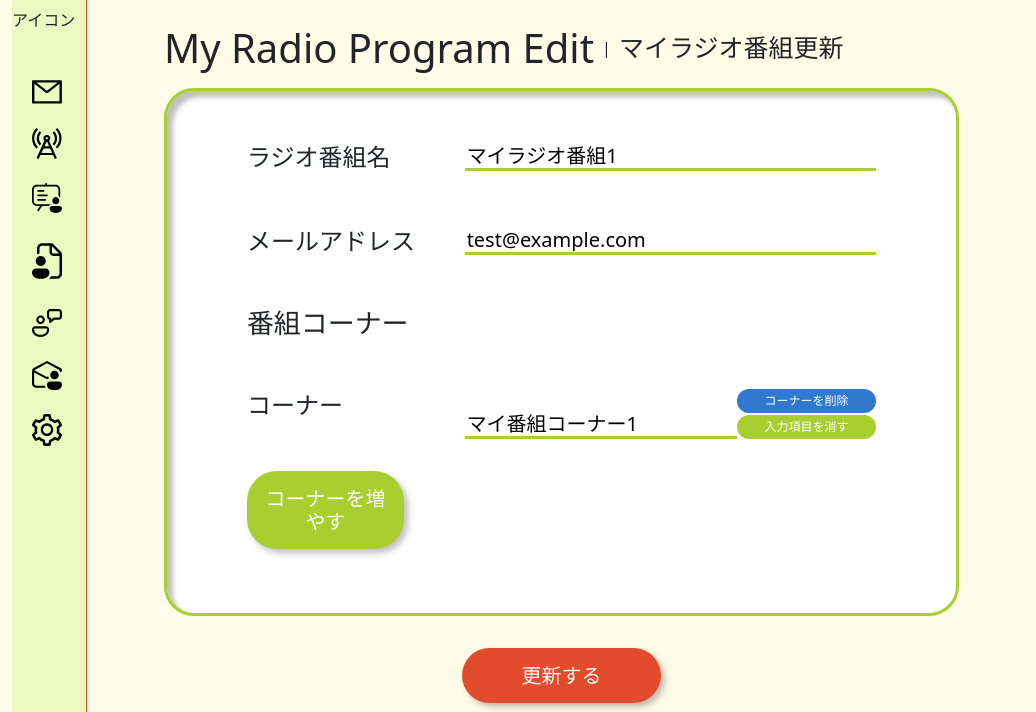
Test case: マイラジオ番組個別 › メールアドレスを入れないとバリデーションメッセージが表示される
The width and height of the screenshot is (1036, 712).
Type "更新" into the field with test id "my-radio-program-input-email".
click(670, 241); type("更新")  # box x1=465 y1=227 x2=876 y2=255
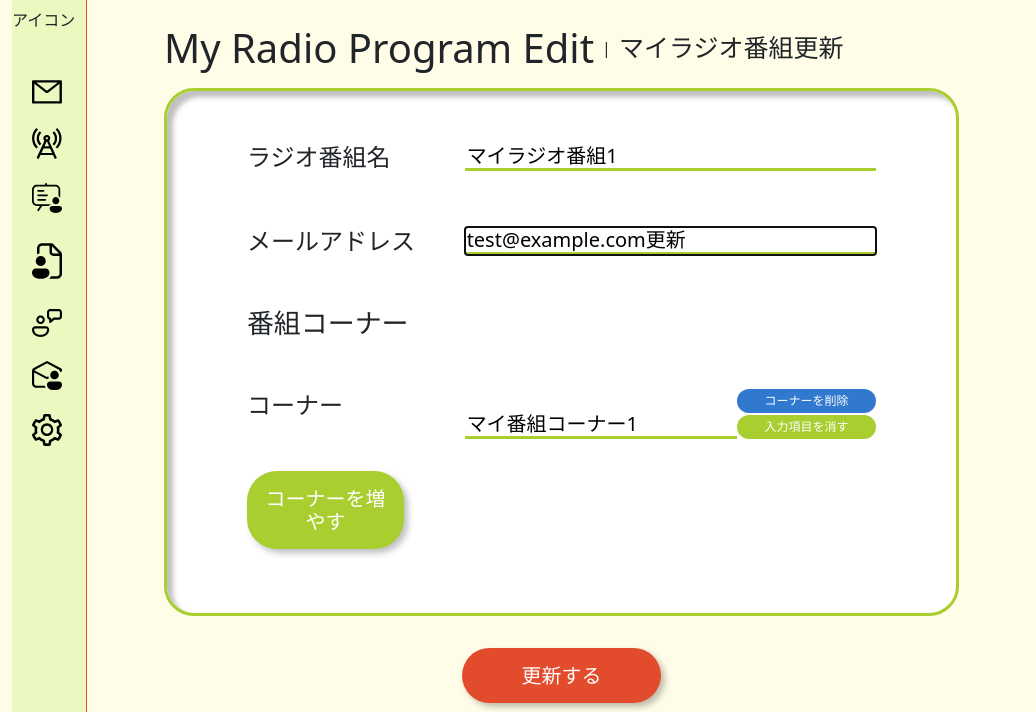
Clear the field with test id "my-radio-program-input-email" at (670, 241), box x1=465 y1=227 x2=876 y2=255
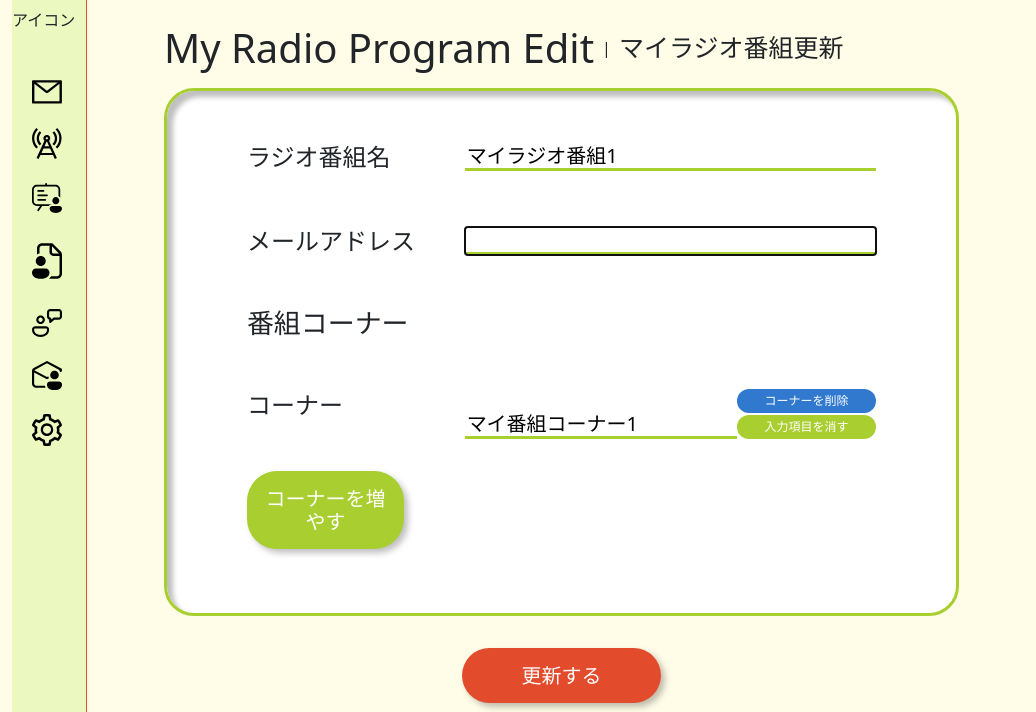
Click the button with test id "my-radio-program-button-edit".
click(562, 675)  # box x1=462 y1=648 x2=661 y2=703
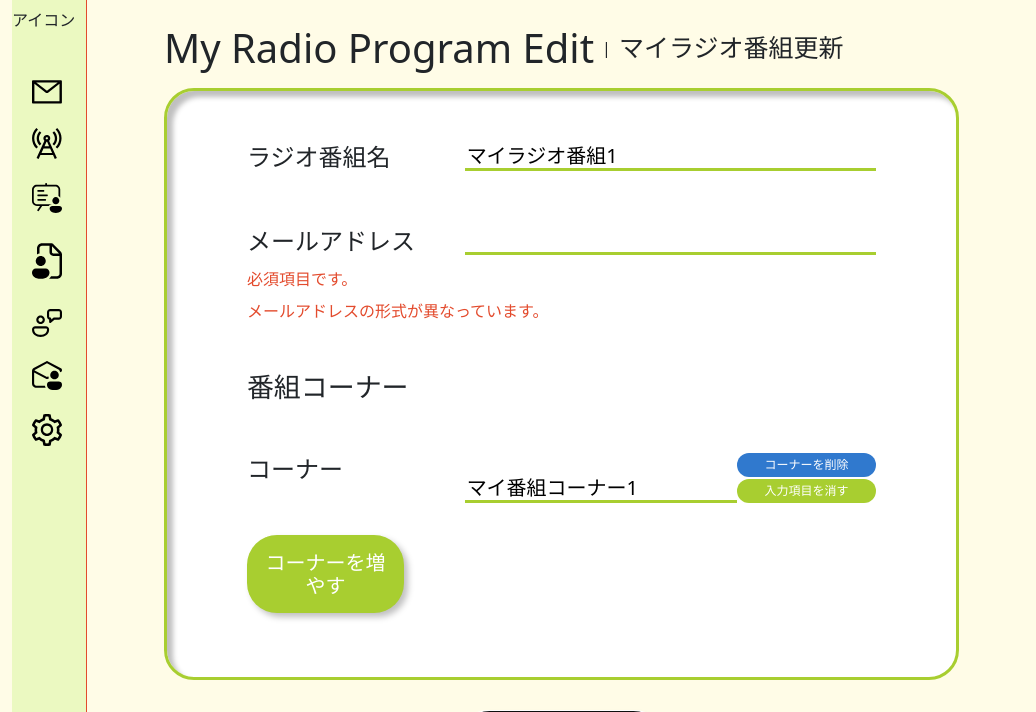
Check: the text "必須項目です。" is shown, box x1=247 y1=268 x2=357 y2=290
